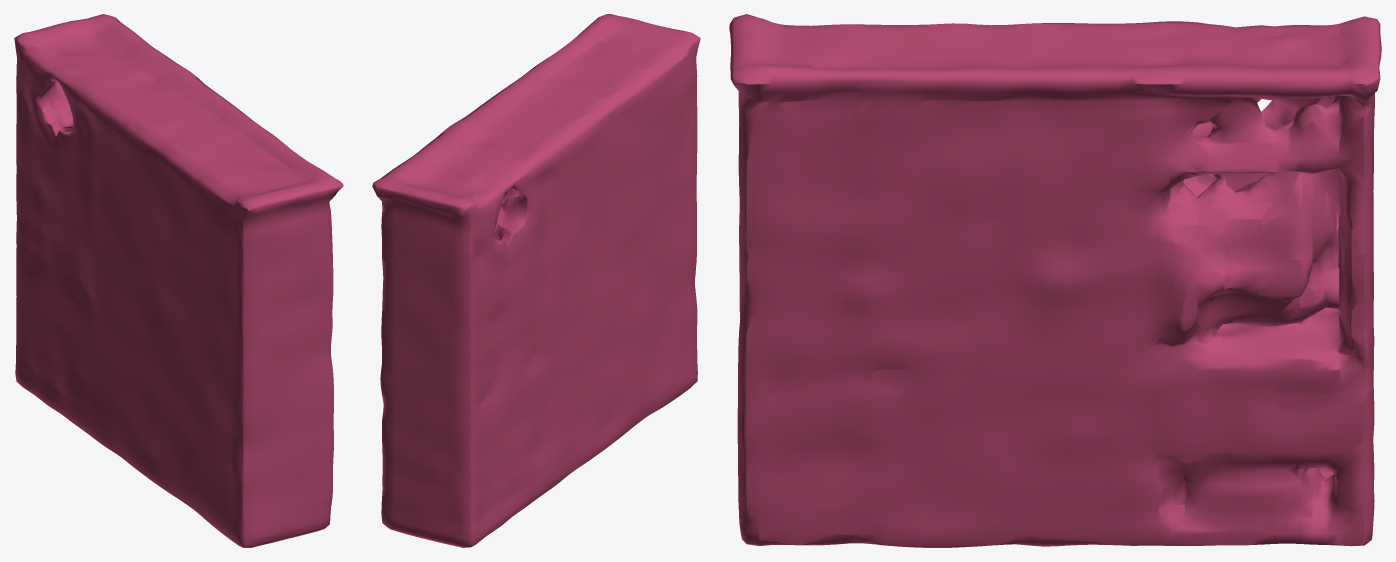
The model's file is wardrobe_13_7.obj.
The picture shows the model from 3 angles, left to right: view 1: azimuth 30°, elevation 25°; view 2: azimuth 150°, elevation 25°; view 3: azimuth 270°, elevation 25°; orthographic projection. The views are drawn at different scales.
Size of the model in its own units: 0.1993 by 0.6489 by 0.7919.
